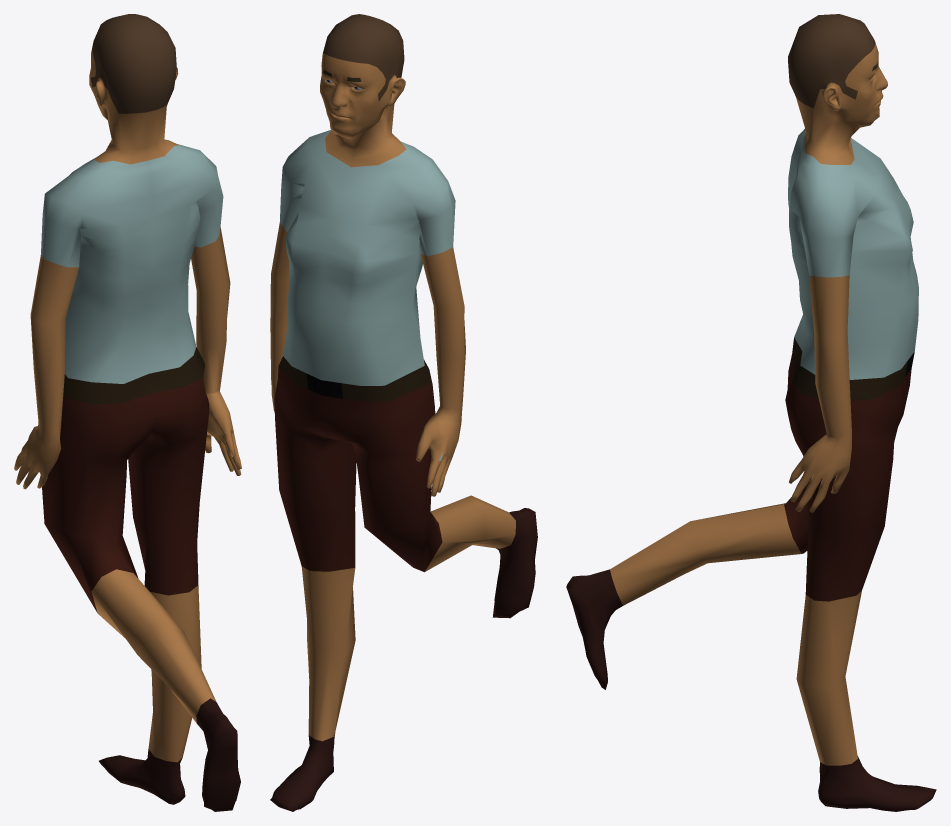
Rendered from person2_000007.obj.
3 renders of one model, left to right at view 1: azimuth 30°, elevation 25°; view 2: azimuth 150°, elevation 25°; view 3: azimuth 270°, elevation 25°, orthographic. The views are drawn at different scales.
Parts seen in each view (by area): view 1: Cube; view 2: Cube; view 3: Cube.
Part boxes in pixels (x1=…): Cube: x1=14, y1=14, x2=241, y2=811; Cube: x1=270, y1=14, x2=537, y2=811; Cube: x1=566, y1=14, x2=936, y2=811.
Bounding box in the file's own units: 24.87 × 95.13 × 41.45.
